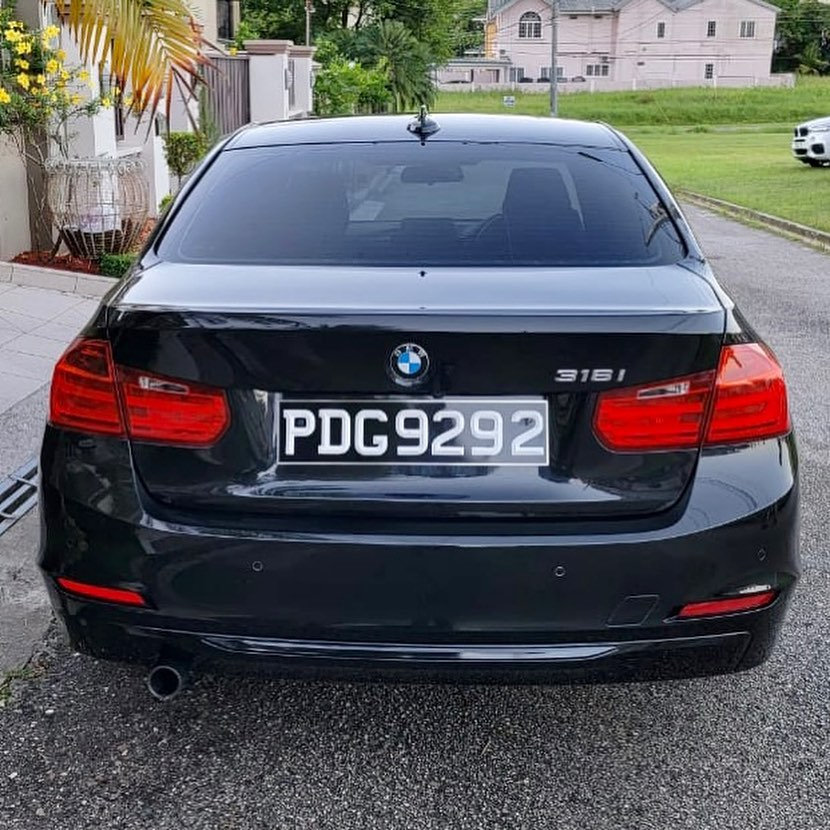License-Plate: (280, 400, 547, 463)
